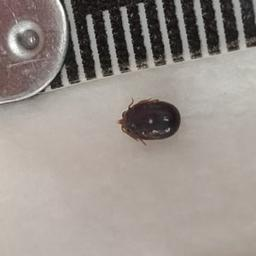Rhipicephalus sanguineus: (114, 97, 181, 146)
